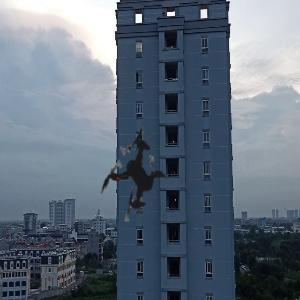drone: (68, 107, 203, 242)
